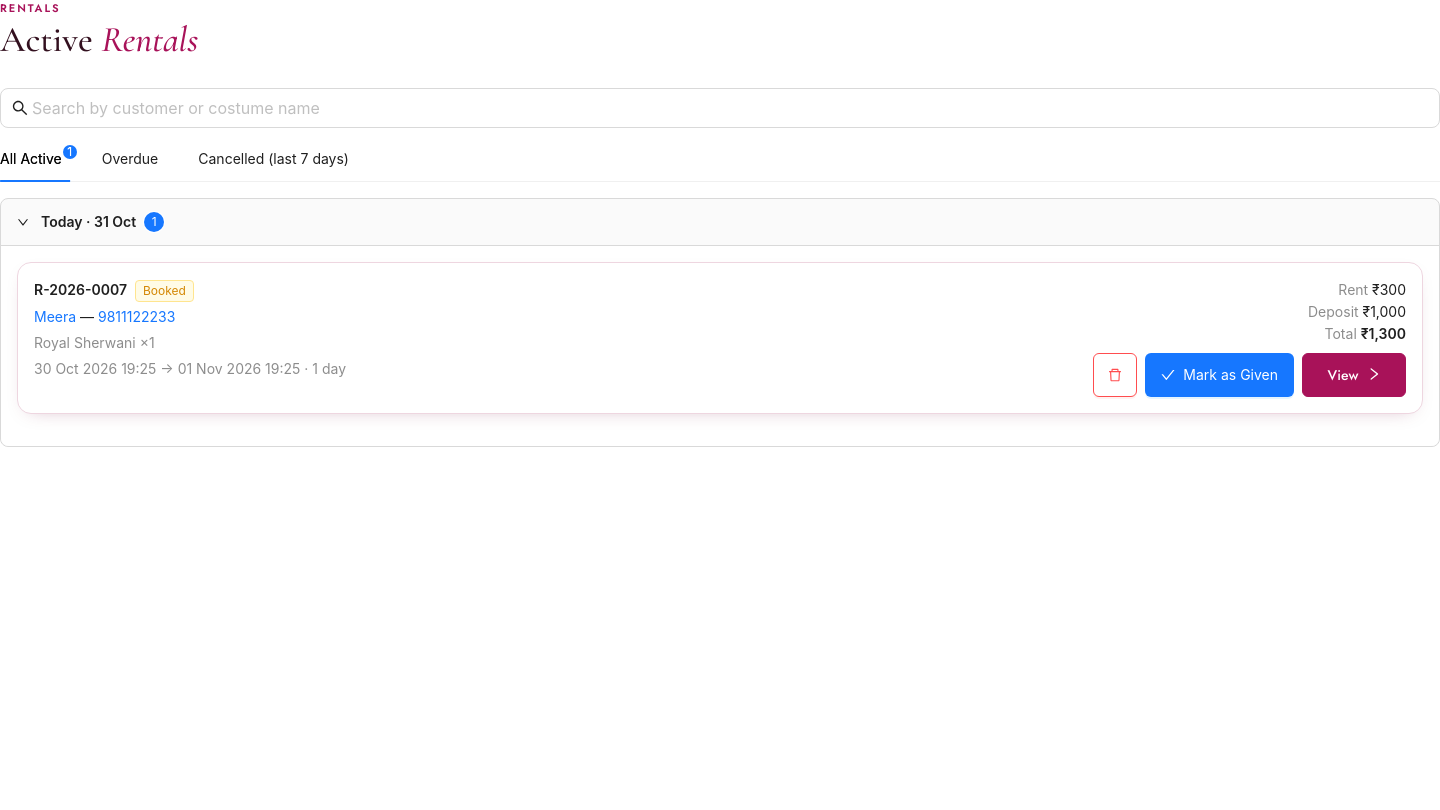
Test case: ReceiptsPage cancel from the Active Rentals card › cancels from the card and moves the receipt to the Cancelled tab
Click the button named "Cancel receipt" at (1115, 375), box left=1093, top=353, right=1137, bottom=397
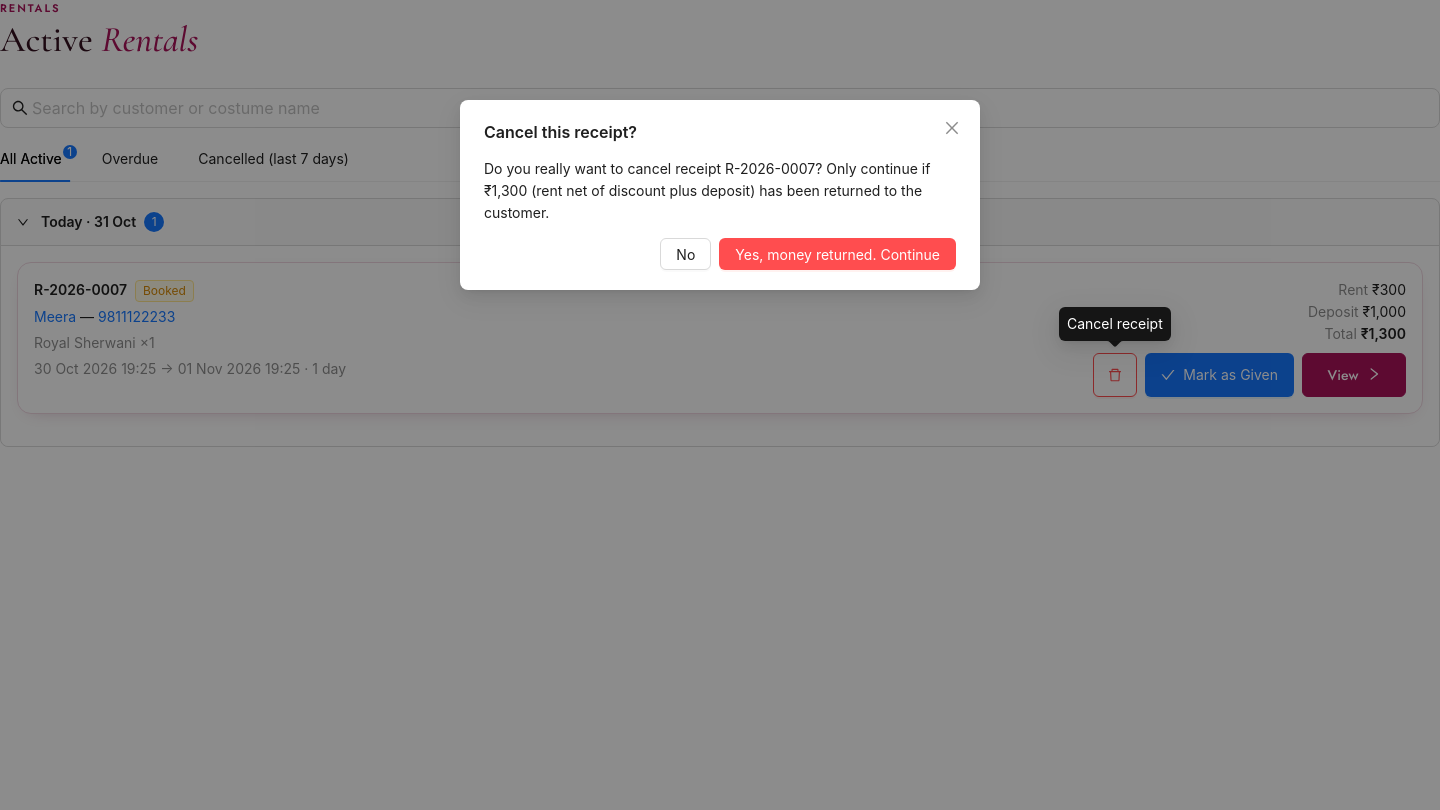
Click the button "Yes, money returned. Continue" at (838, 254), box left=719, top=238, right=956, bottom=270
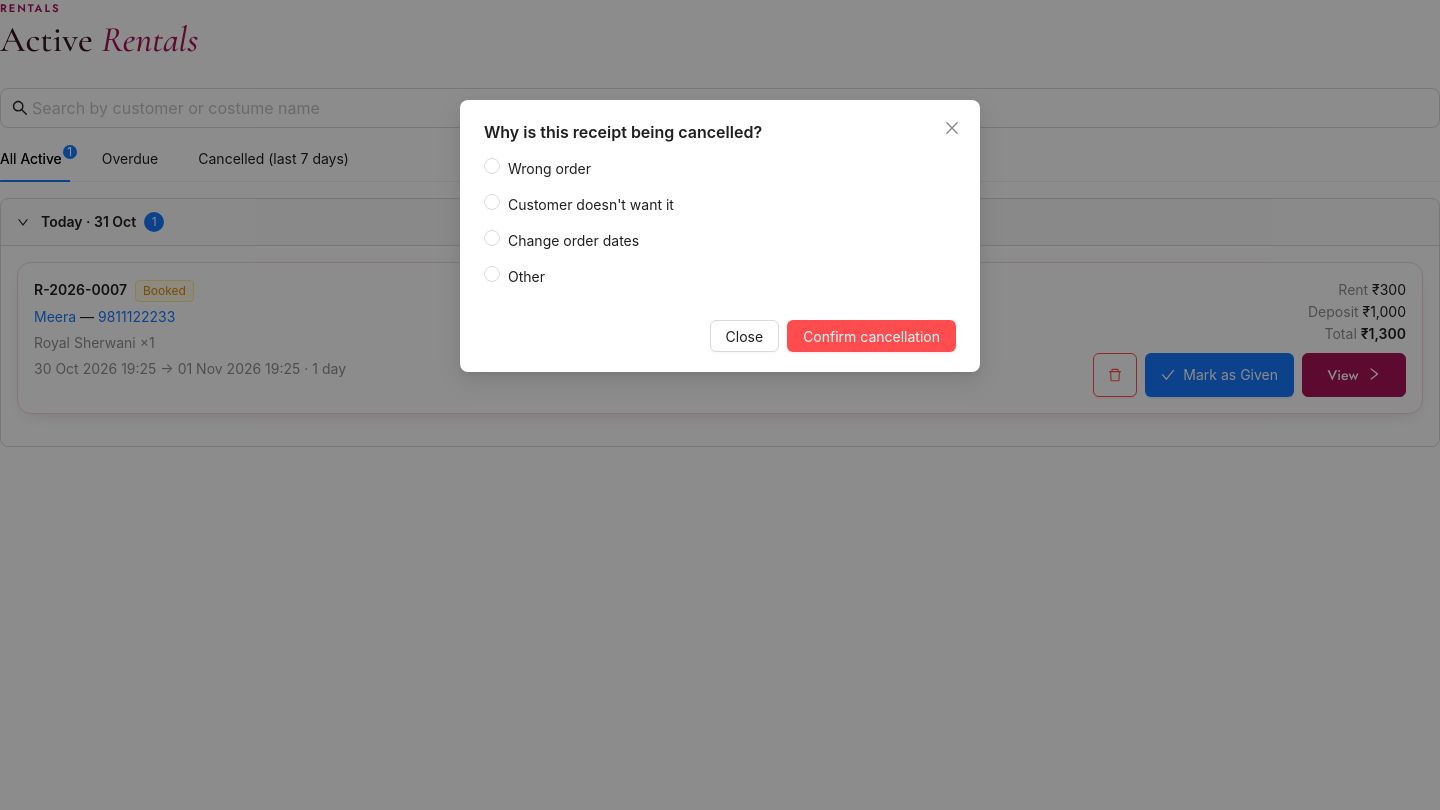
Click the radio button labelled "Wrong order" at (538, 168), box left=484, top=158, right=591, bottom=177
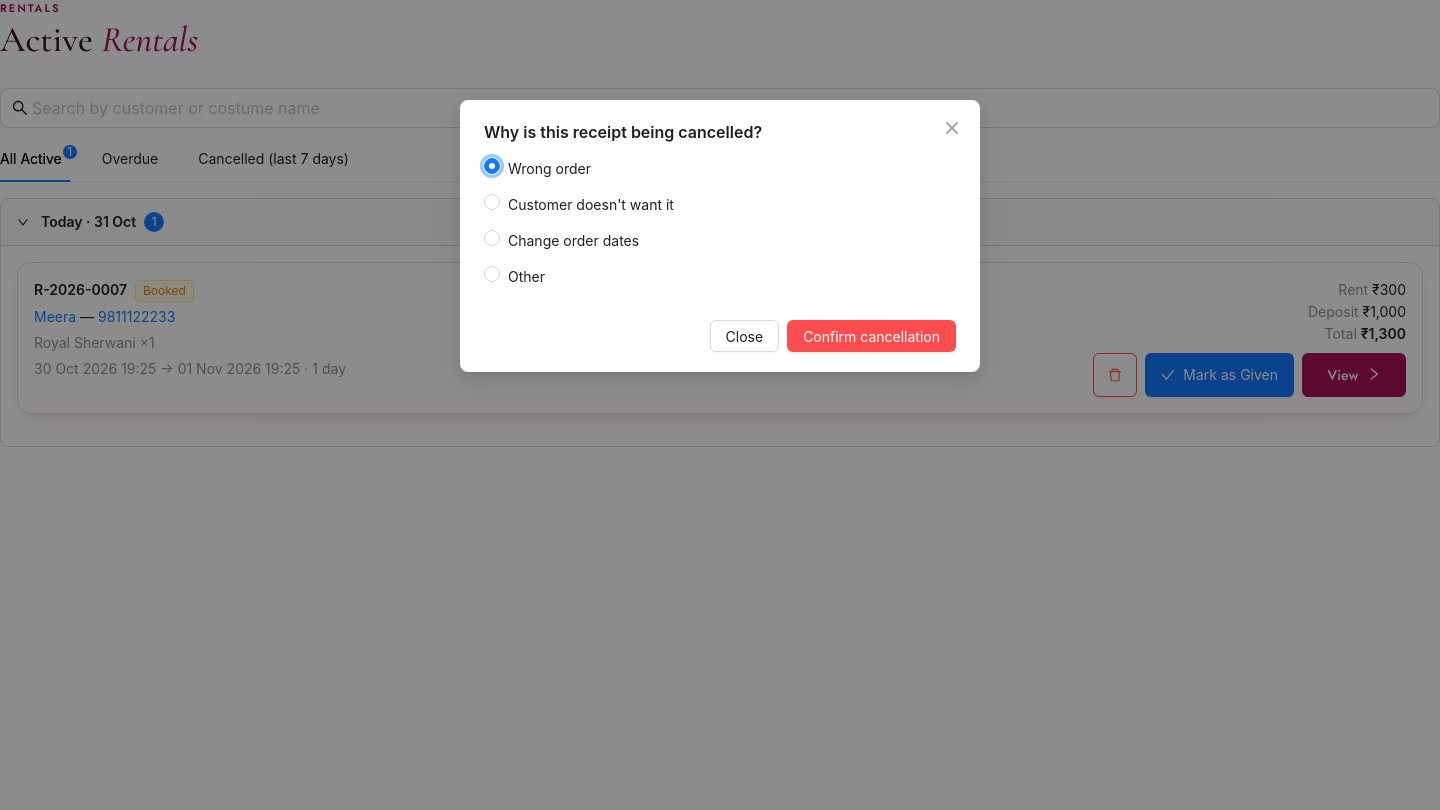
Click the button "Confirm cancellation" at (872, 336), box left=787, top=320, right=956, bottom=352
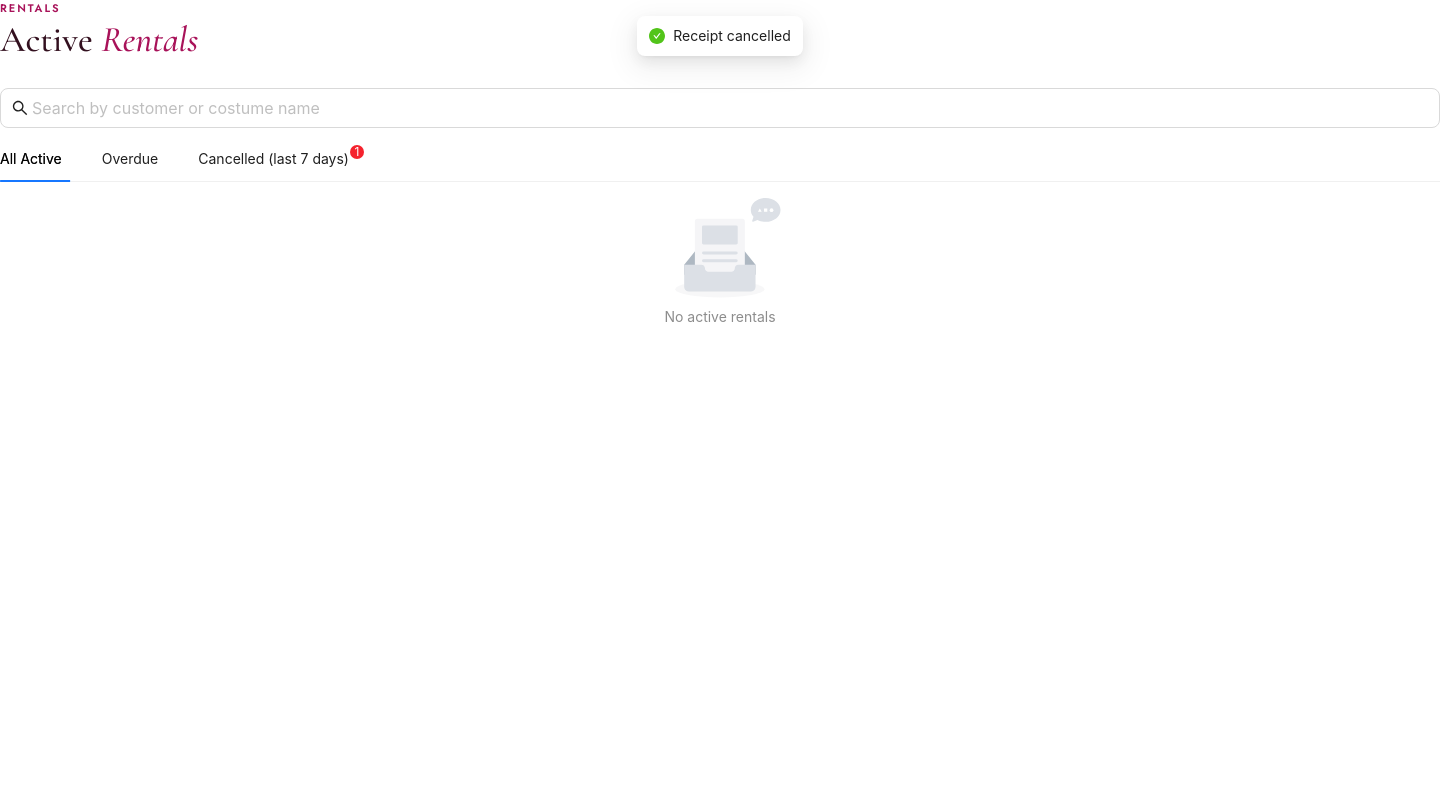
Result: the text "No active rentals" is shown at left=664, top=308, right=776, bottom=325
Click the tab "Cancelled (last 7 days) 1" at (278, 159), box left=198, top=148, right=357, bottom=170
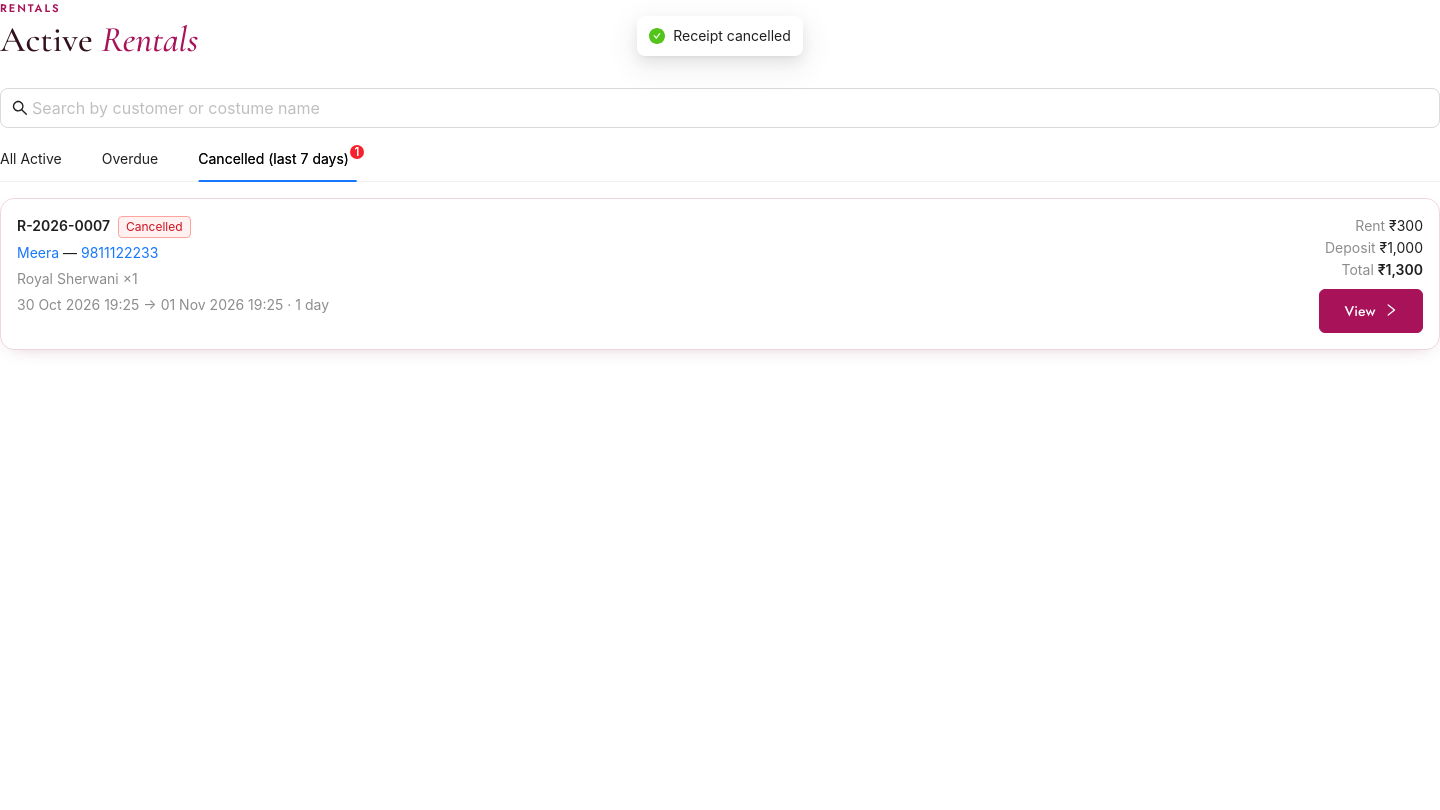
Result: the text "R-2026-0007" is shown at left=17, top=217, right=110, bottom=234
